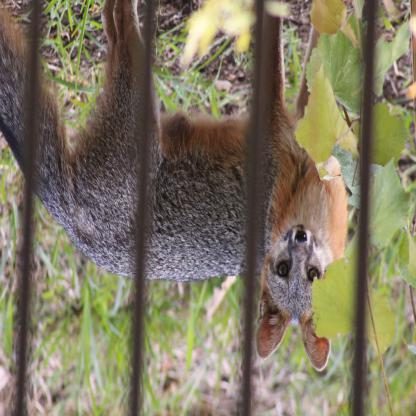zorro: (0, 0, 350, 382)
